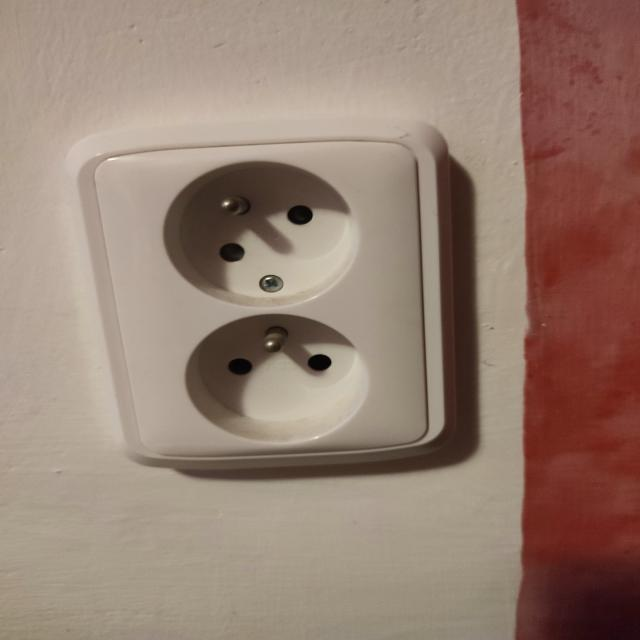house plug: (143, 148, 390, 310), (175, 311, 390, 447)
